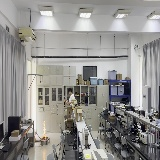fire: (41, 119, 46, 139)
